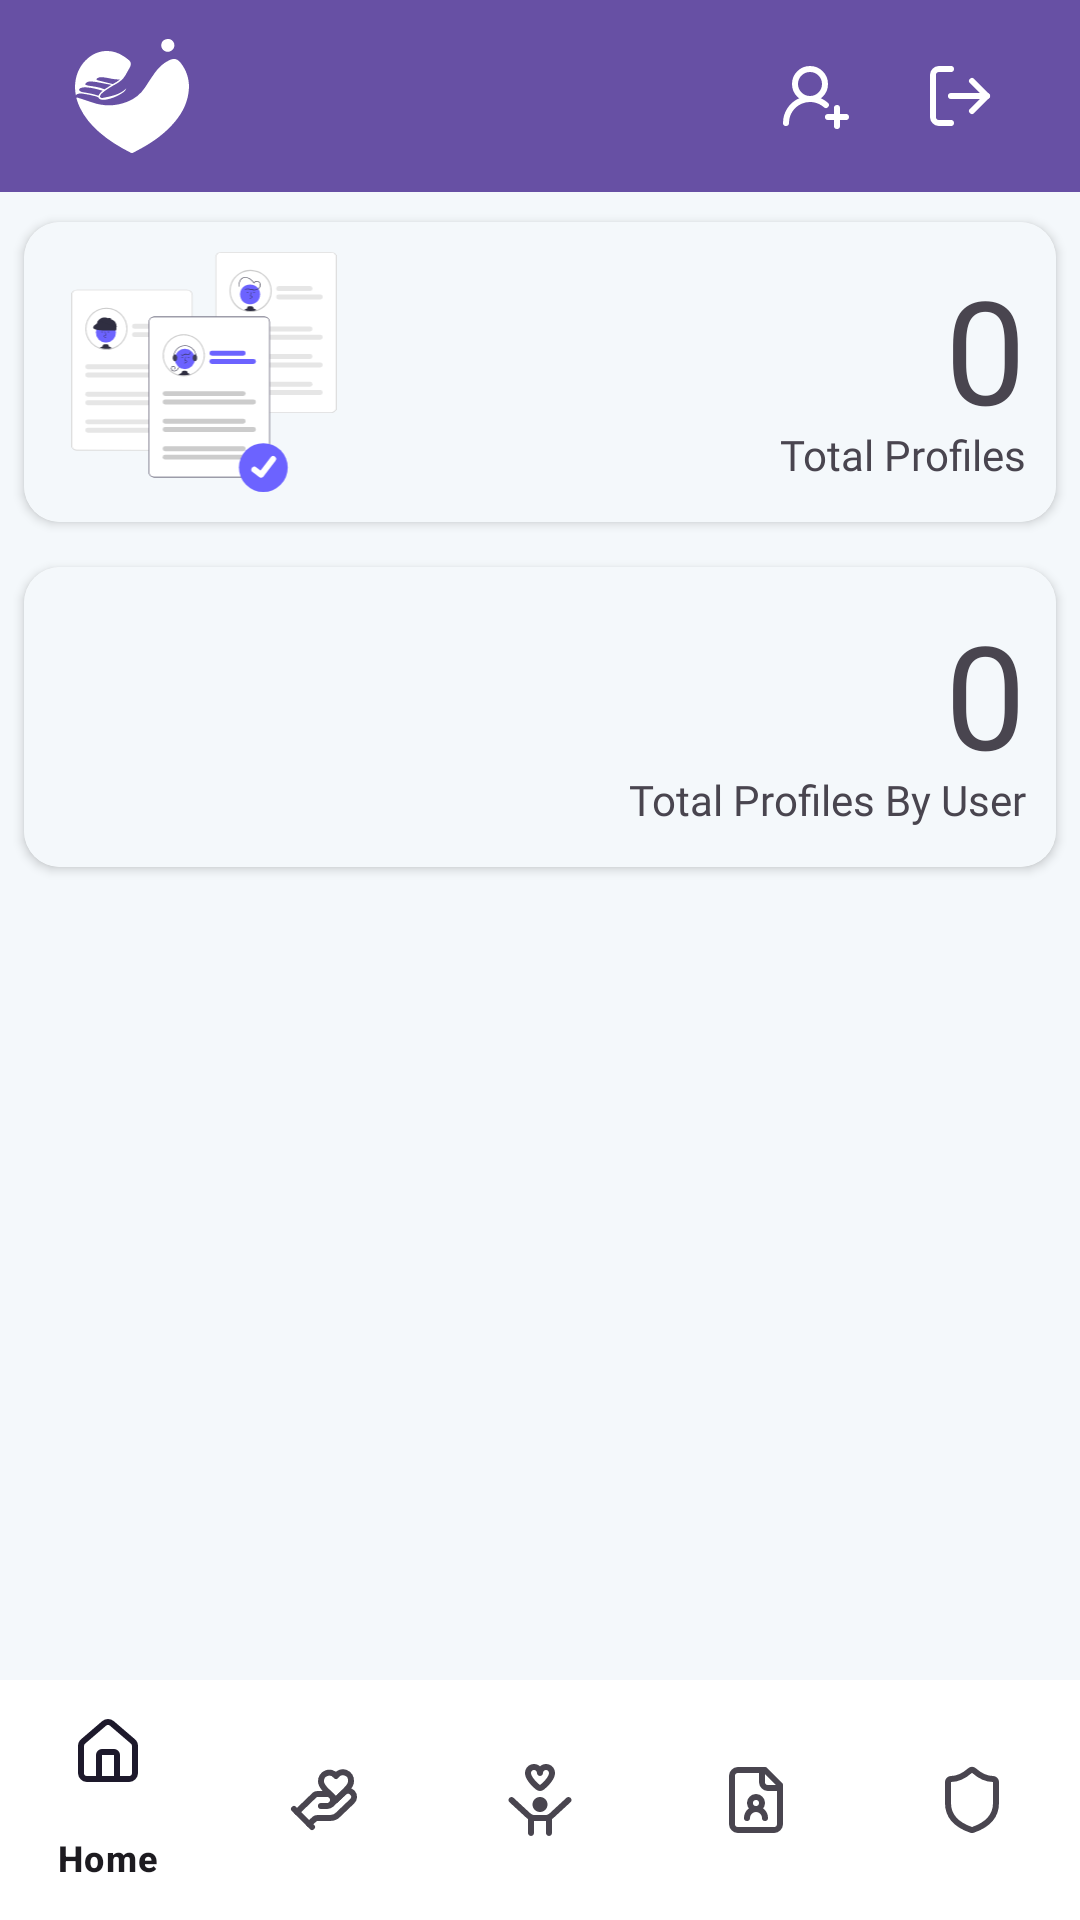

Where to tap for icons on this 1080x1920 app screen, as (x=x, y=y):
profiles: (x=204, y=372)
